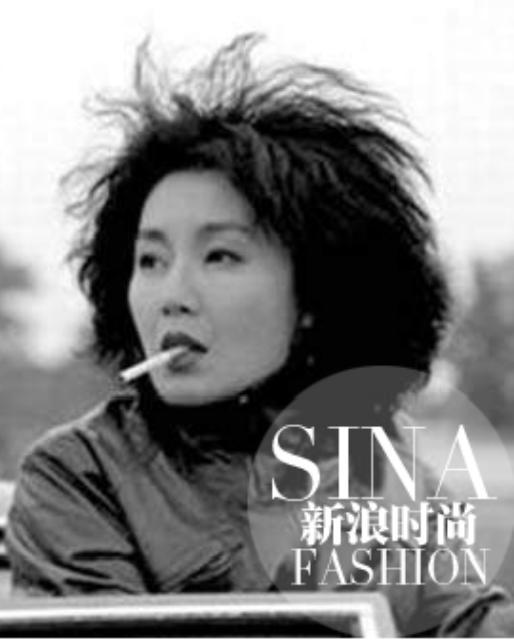SafeDriving: (193, 228, 256, 273), (131, 236, 175, 276)
Smoking: (113, 344, 183, 388)
